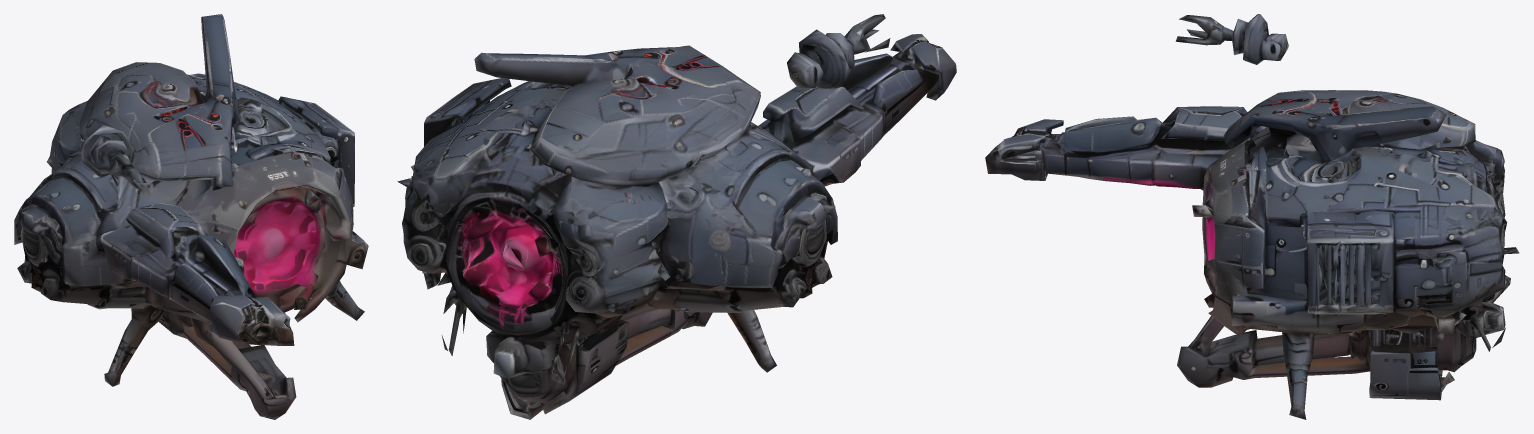
The model's file is boss_drone.obj.
3 renders of one model, left to right at view 1: azimuth 30°, elevation 25°; view 2: azimuth 150°, elevation 25°; view 3: azimuth 270°, elevation 25°, orthographic. The views are drawn at different scales.
Visible parts, largest first — view 1: tripo_node_de869d3e-551e-41ed-afac-0c63ab02e2d8; view 2: tripo_node_de869d3e-551e-41ed-afac-0c63ab02e2d8; view 3: tripo_node_de869d3e-551e-41ed-afac-0c63ab02e2d8.
Boxes of the visible parts, box(x1,y1,x2,y2) form: tripo_node_de869d3e-551e-41ed-afac-0c63ab02e2d8: box(14, 14, 368, 419); tripo_node_de869d3e-551e-41ed-afac-0c63ab02e2d8: box(397, 14, 956, 419); tripo_node_de869d3e-551e-41ed-afac-0c63ab02e2d8: box(985, 14, 1519, 419).
Size of the model in its own units: 0.6858 by 0.6184 by 0.9892.
Materials: 1 (1 with a texture image).
